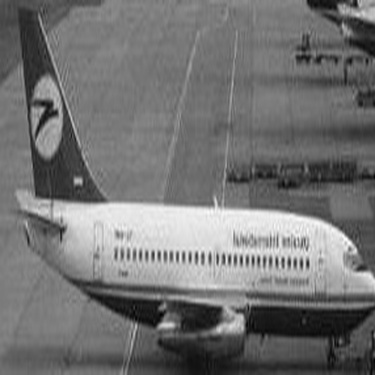airplane: (3, 3, 370, 371), (291, 1, 370, 65)
